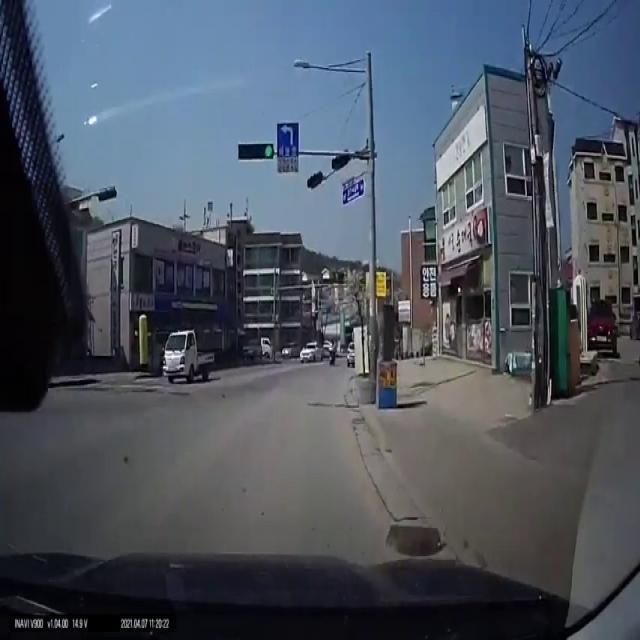pothole: (387, 520, 447, 559)
